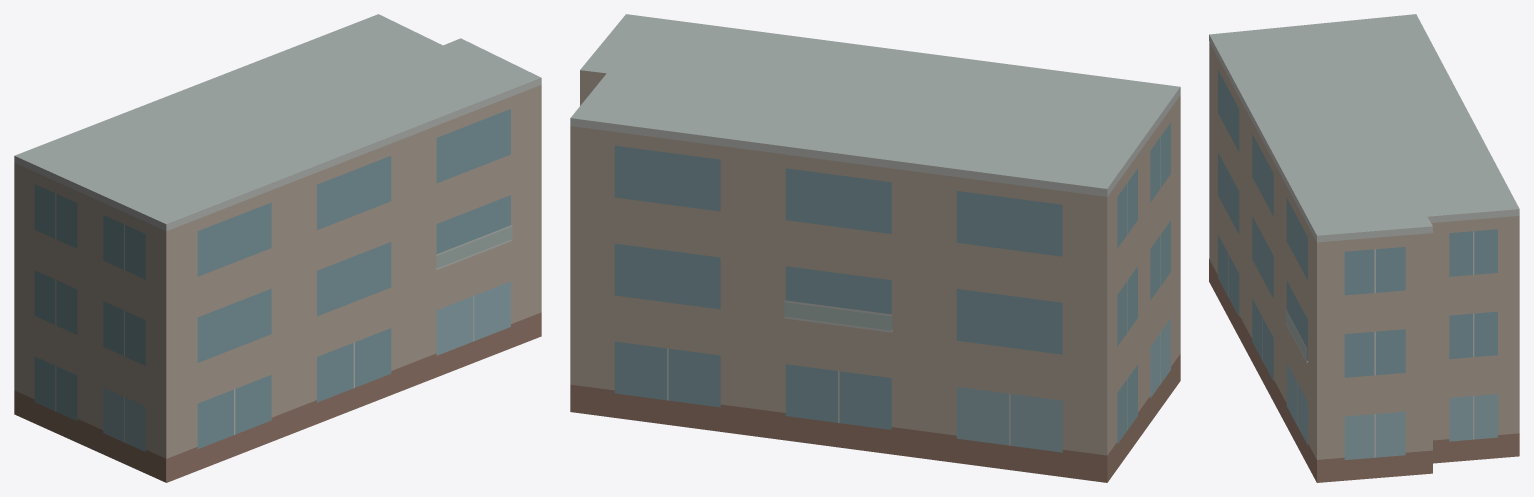
Rendered from survey-upis-32517285.glb.
The picture shows the model from 3 angles, left to right: view 1: azimuth 30°, elevation 25°; view 2: azimuth 150°, elevation 25°; view 3: azimuth 270°, elevation 25°; orthographic projection. The views are drawn at different scales.
Parts seen in each view (by area): view 1: survey-upis-32517285.tmp; view 2: survey-upis-32517285.tmp; view 3: survey-upis-32517285.tmp.
Boxes of the visible parts, <box> form: survey-upis-32517285.tmp: <box>14,14,541,482</box>; survey-upis-32517285.tmp: <box>570,14,1180,482</box>; survey-upis-32517285.tmp: <box>1209,14,1519,482</box>.
Bounding box in the file's own units: 17.42 × 9.05 × 10.32.
